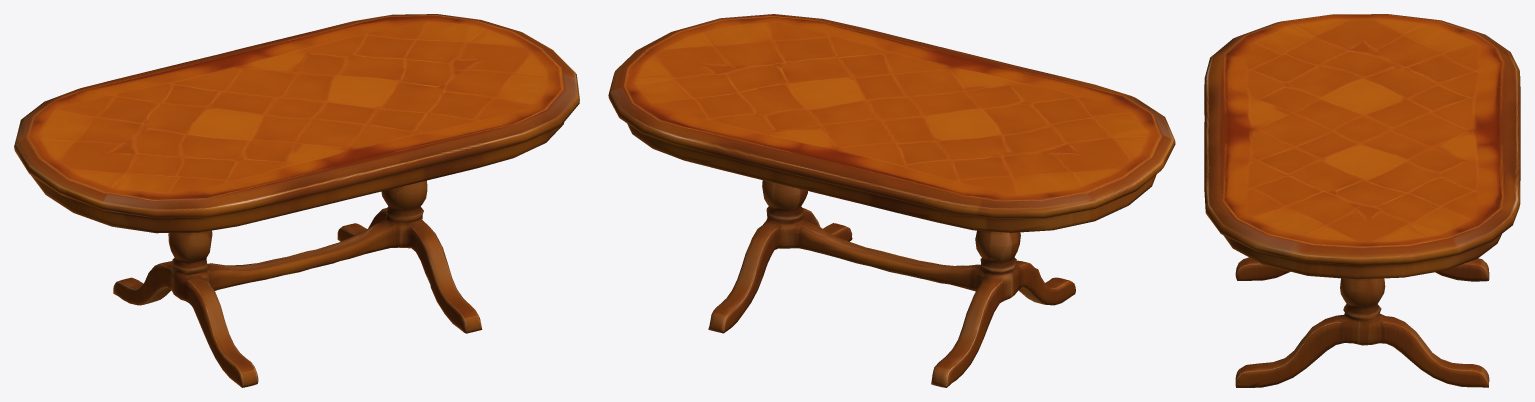
Rendered from Lamesa.glb.
The picture shows the model from 3 angles, left to right: view 1: azimuth 30°, elevation 25°; view 2: azimuth 150°, elevation 25°; view 3: azimuth 270°, elevation 25°; orthographic projection. The views are drawn at different scales.
Size of the model in its own units: 1.91 by 0.7273 by 1.04.
1 material, 1 textured.
